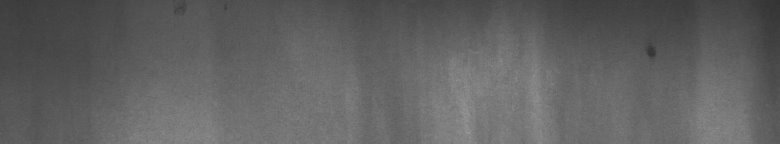fi: (644, 44, 660, 64)
